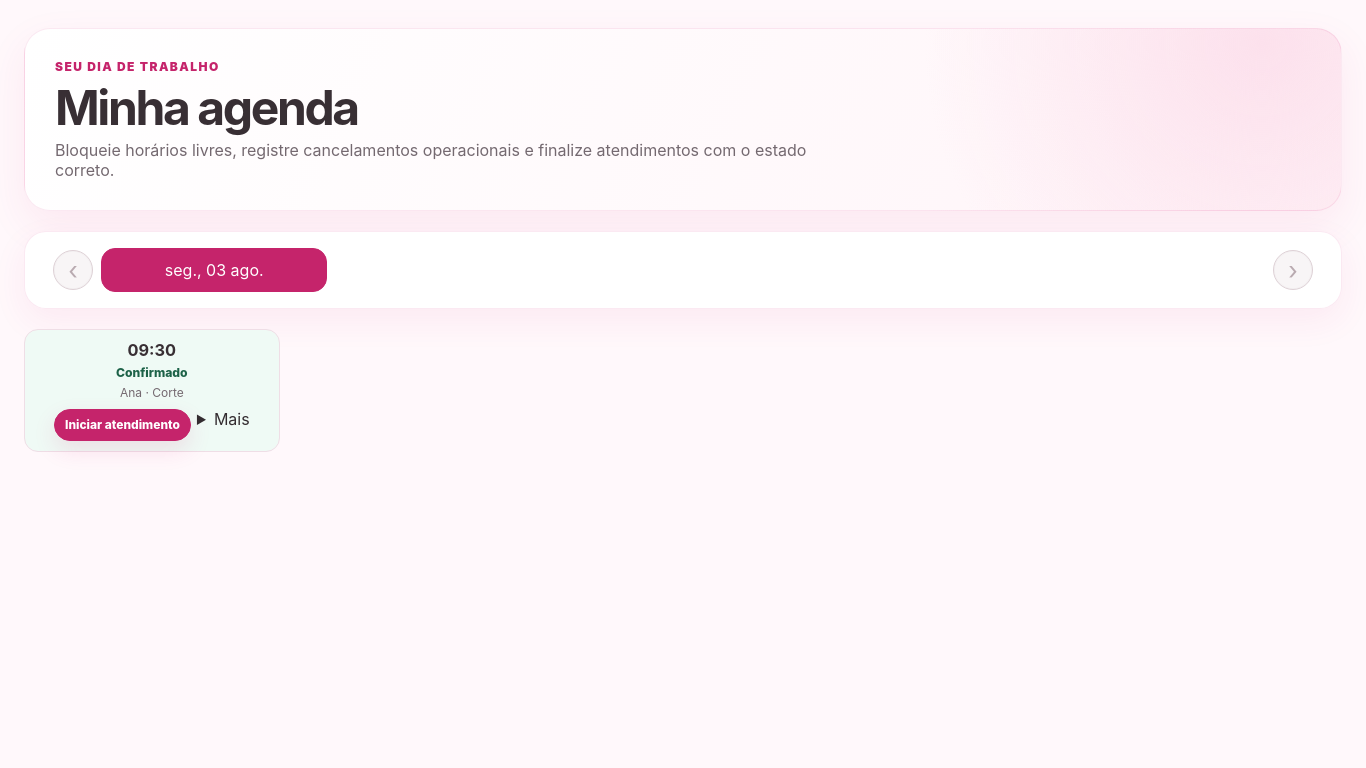
Test: agenda do negócio › mantém uma ação principal e agrupa operações secundárias para a profissional
Check: the button "Iniciar atendimento" is shown, box [54,409,191,441]
Click the heading "Mais" at (232, 419), box [214,409,250,429]
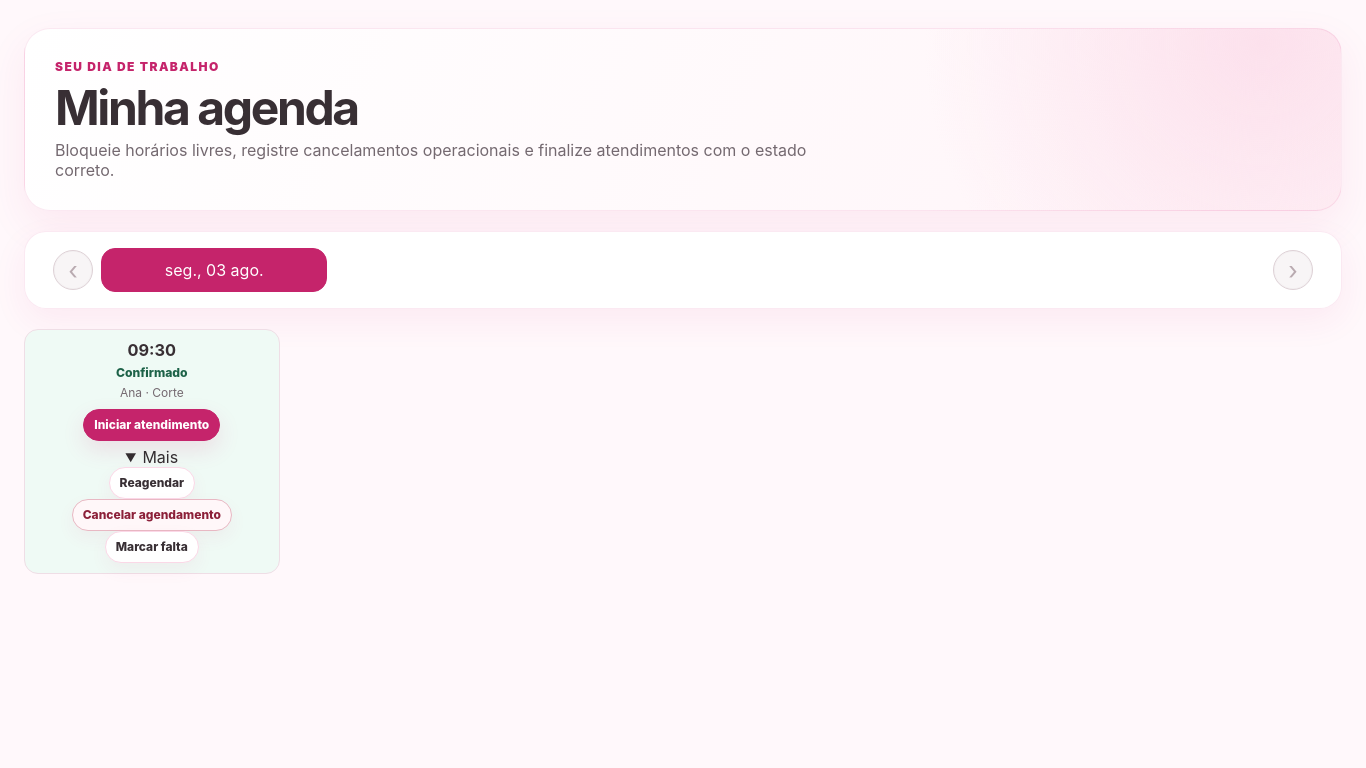
Check: the button "Reagendar" is shown, box [109,467,195,499]
Check: the button "Cancelar agendamento" is shown, box [72,499,232,531]
Check: the button "Marcar falta" is shown, box [105,531,199,563]
